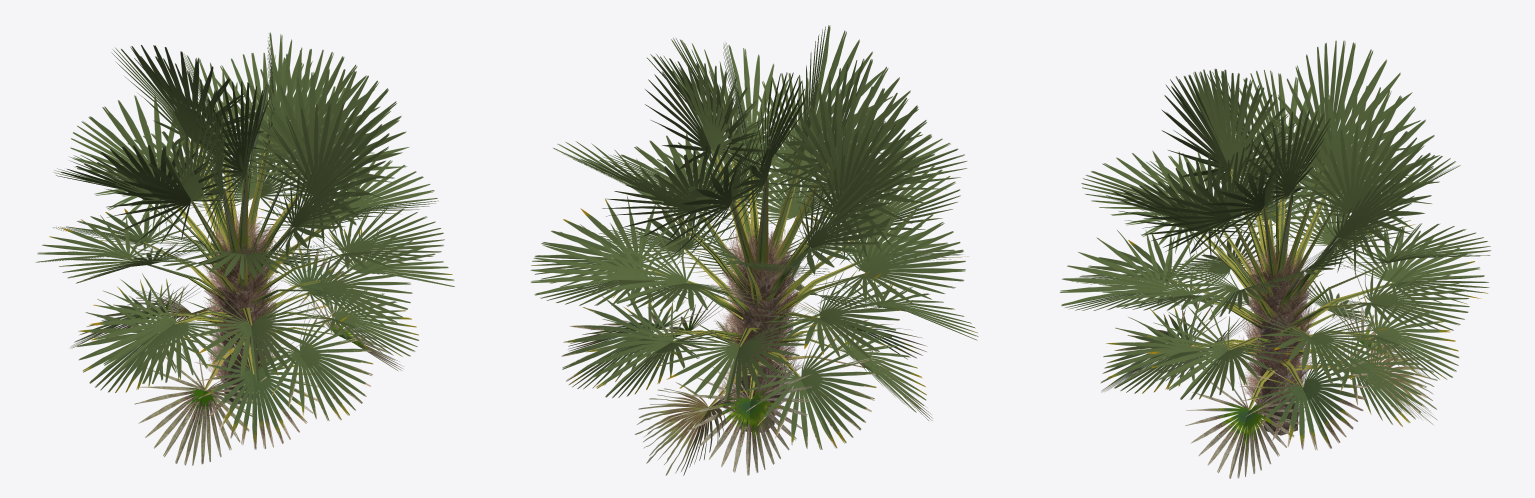
Rendered from fanpalm_med1.glb.
3 renders of one model, left to right at view 1: azimuth 30°, elevation 25°; view 2: azimuth 150°, elevation 25°; view 3: azimuth 270°, elevation 25°, orthographic. The views are drawn at different scales.
Parts seen in each view (by area): view 1: Chamaerops_humilis_HD_w; view 2: Chamaerops_humilis_HD_w; view 3: Chamaerops_humilis_HD_w.
Boxes of the visible parts, <box> form: Chamaerops_humilis_HD_w: <box>35,32,454,465</box>; Chamaerops_humilis_HD_w: <box>530,25,978,475</box>; Chamaerops_humilis_HD_w: <box>1060,40,1491,478</box>.
Bounding box in the file's own units: 3.66 × 3.49 × 3.83.
Materials: 15 (15 with a texture image).
